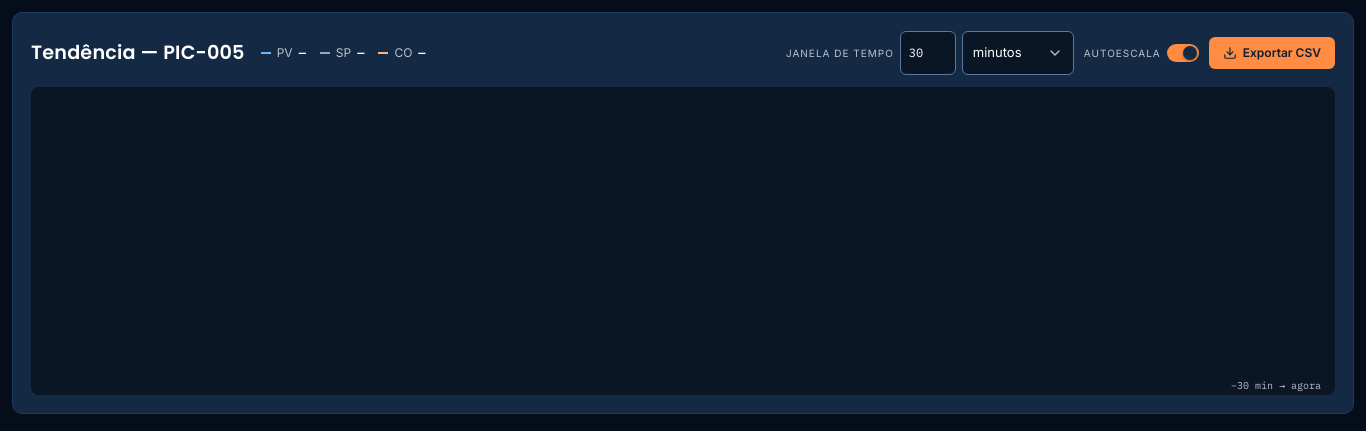
it: TrendPanel › reveals manual PV and CO bounds only when auto-scale is off
The image size is (1366, 431).
Click the switch named "Autoescala": (1183, 53) [1167, 44, 1199, 62]
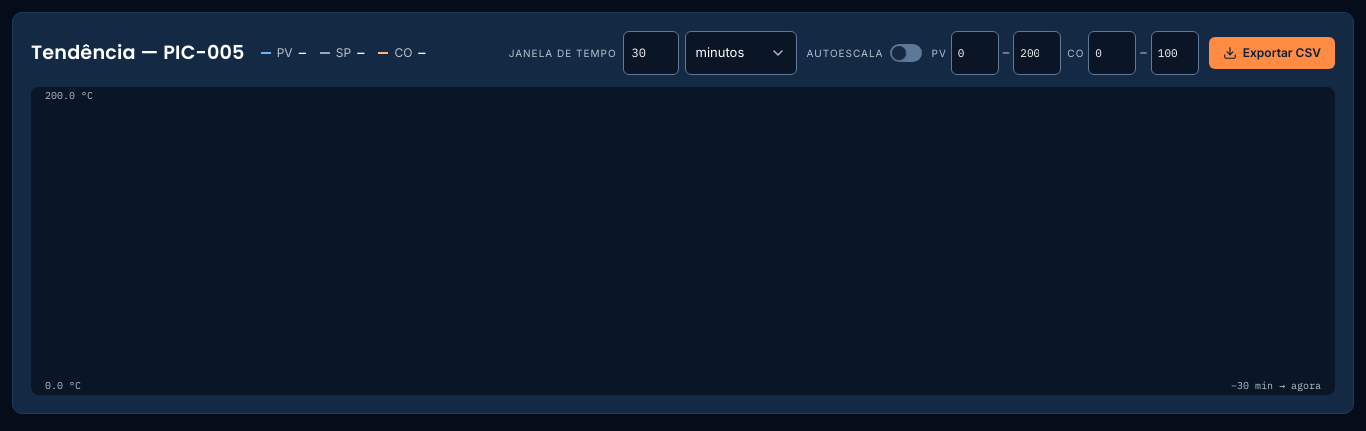
Check: the switch named "Autoescala" is not checked, box [890, 44, 922, 62]
Check: the number field named "PV mínimo" holds "0", box [951, 31, 999, 75]
Check: the number field named "PV máximo" holds "200", box [1013, 31, 1061, 75]
